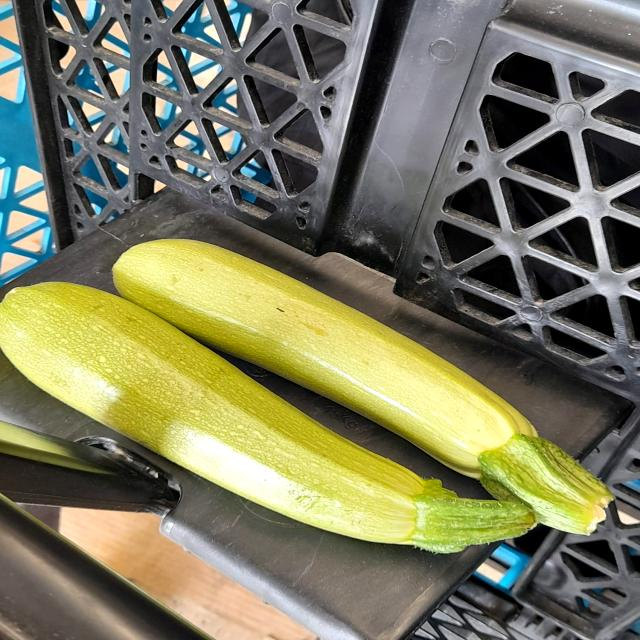zucchini: (113, 225, 622, 540), (0, 279, 542, 557)
